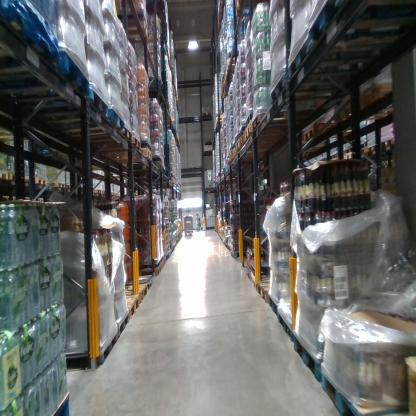pallet: (267, 58, 381, 101), (285, 35, 386, 83), (319, 362, 411, 414), (1, 52, 98, 100), (8, 87, 111, 132), (5, 3, 64, 81), (307, 3, 414, 44), (28, 109, 125, 144), (57, 325, 119, 377), (251, 109, 327, 139), (293, 329, 320, 388), (356, 88, 401, 123), (82, 131, 140, 158), (78, 123, 133, 150), (245, 123, 326, 140), (241, 131, 301, 153), (118, 13, 151, 50), (276, 306, 297, 351), (329, 102, 361, 128), (233, 1, 271, 21), (46, 388, 75, 414), (113, 284, 149, 304), (302, 122, 332, 146), (119, 293, 138, 330), (123, 138, 152, 162), (124, 272, 154, 295), (248, 257, 279, 279), (251, 268, 275, 296), (256, 277, 273, 310), (112, 311, 129, 342), (226, 53, 243, 75), (267, 292, 280, 320), (7, 169, 27, 187), (138, 266, 161, 281), (27, 173, 48, 189), (231, 247, 251, 259), (46, 177, 66, 189), (241, 257, 250, 282), (156, 260, 166, 274), (1, 170, 8, 185), (65, 182, 77, 189), (87, 186, 97, 194), (101, 186, 108, 196), (161, 258, 167, 267), (96, 188, 101, 196)
